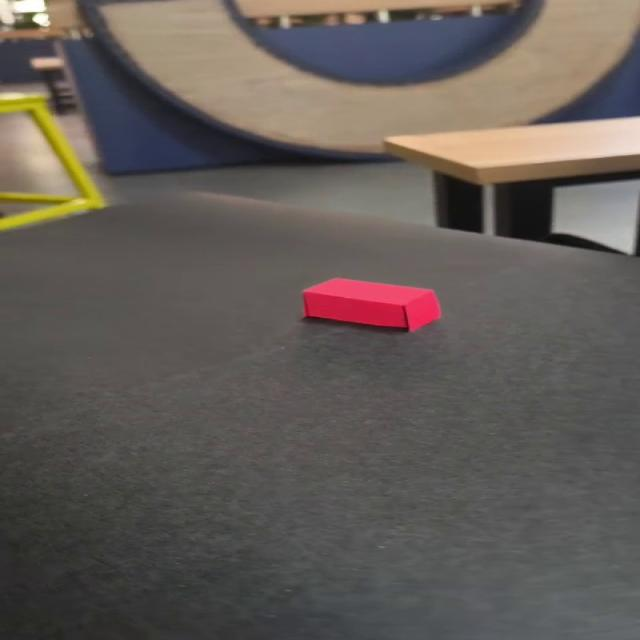red block: (300, 276, 441, 332)
